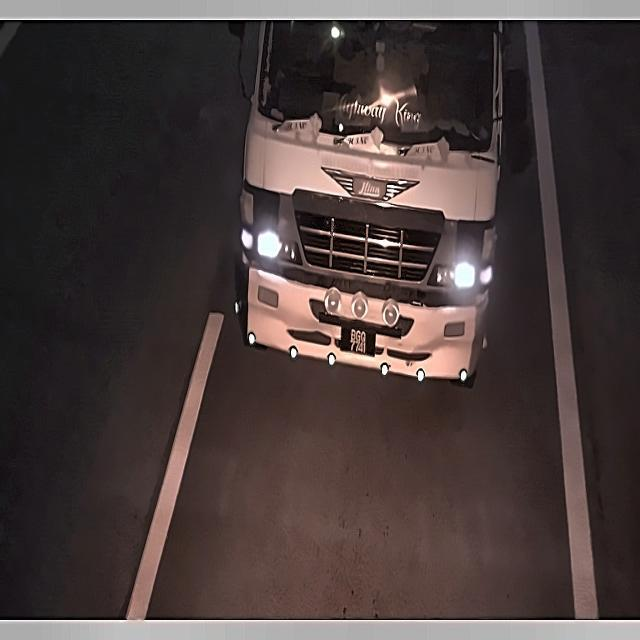car: (336, 322, 379, 362)
